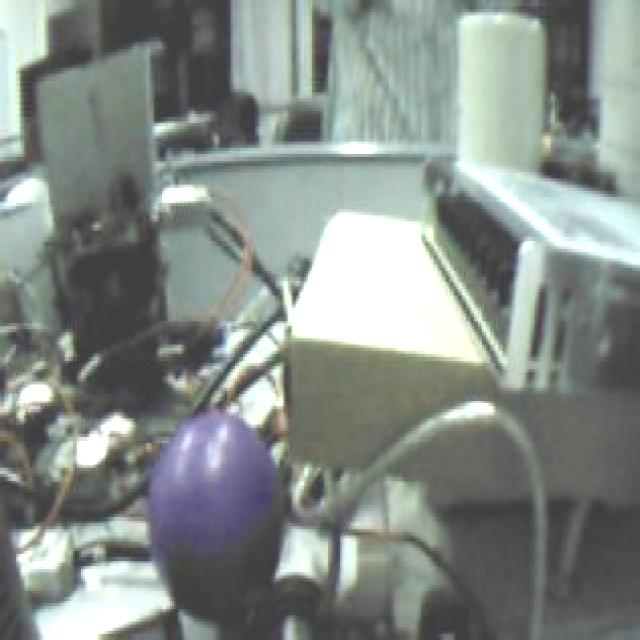BallPurple: (146, 413, 282, 620)
